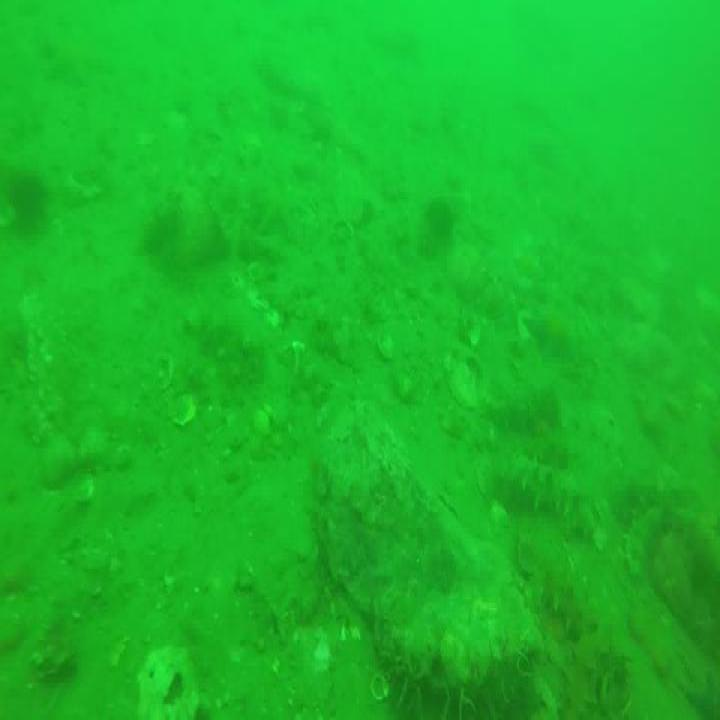echinus: (8, 174, 48, 233), (424, 194, 457, 254)
holothurian: (503, 452, 580, 530), (528, 569, 594, 645)
scallop: (165, 393, 196, 428), (457, 302, 481, 347), (151, 348, 171, 386), (252, 404, 275, 436), (370, 674, 391, 702), (376, 332, 394, 362), (231, 270, 243, 286)
